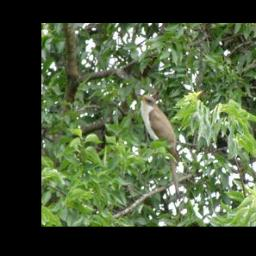Cuckoo: (134, 91, 183, 204)
